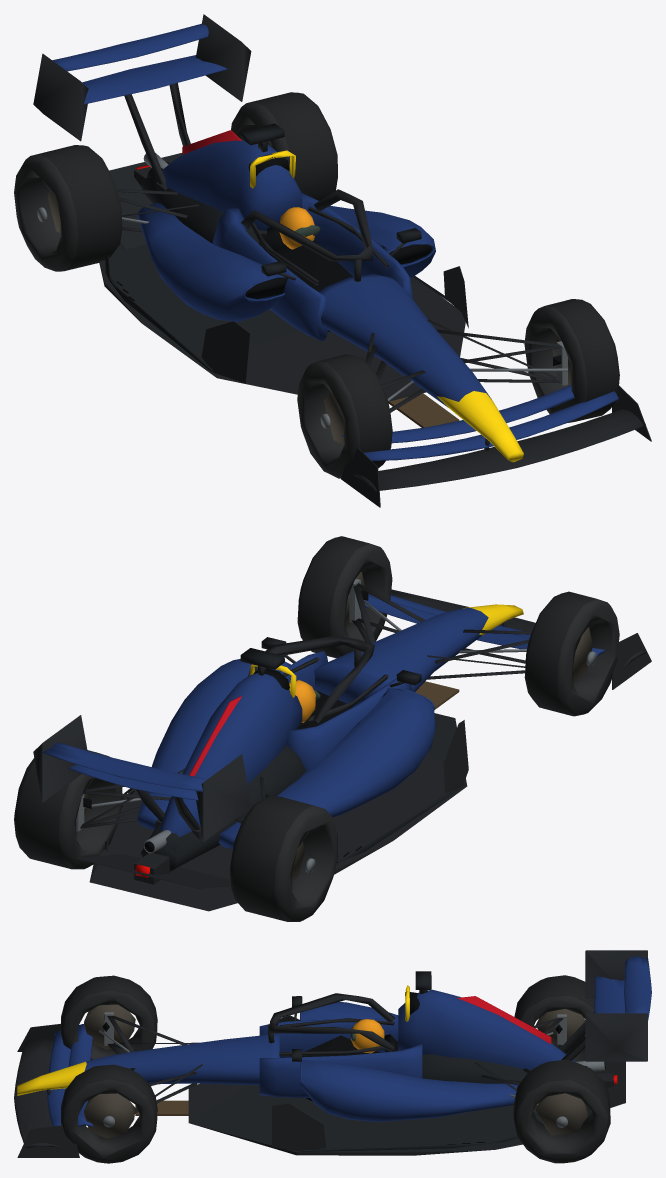
The picture shows the model from 3 angles, top to bottom: view 1: azimuth 30°, elevation 25°; view 2: azimuth 150°, elevation 25°; view 3: azimuth 270°, elevation 25°; orthographic projection. The views are drawn at different scales.
Parts seen in each view (by area): view 1: L3_Chassis, L3_Wheel_RL, L3_Wheel_FL, L3_Wheel_FR, L3_Wheel_RR; view 2: L3_Chassis, L3_Wheel_RL, L3_Wheel_FL, L3_Wheel_RR, L3_Wheel_FR; view 3: L3_Chassis, L3_Wheel_RR, L3_Wheel_FR, L3_Wheel_FL, L3_Wheel_RL.
Part boxes in pixels (bbox=[...]): L3_Chassis: bbox=[33, 14, 651, 507]; L3_Wheel_RL: bbox=[14, 145, 122, 271]; L3_Wheel_FL: bbox=[297, 354, 392, 478]; L3_Wheel_FR: bbox=[524, 299, 619, 422]; L3_Wheel_RR: bbox=[231, 92, 337, 200]; L3_Chassis: bbox=[33, 572, 651, 911]; L3_Wheel_RL: bbox=[229, 796, 338, 921]; L3_Wheel_FL: bbox=[524, 591, 619, 716]; L3_Wheel_RR: bbox=[14, 750, 122, 869]; L3_Wheel_FR: bbox=[297, 536, 392, 658]; L3_Chassis: bbox=[14, 950, 651, 1157]; L3_Wheel_RR: bbox=[513, 1059, 610, 1163]; L3_Wheel_FR: bbox=[61, 1064, 157, 1163]; L3_Wheel_FL: bbox=[61, 975, 157, 1060]; L3_Wheel_RL: bbox=[514, 975, 594, 1061].
Bounding box in the file's own units: 1.9 × 1.13 × 4.79.
